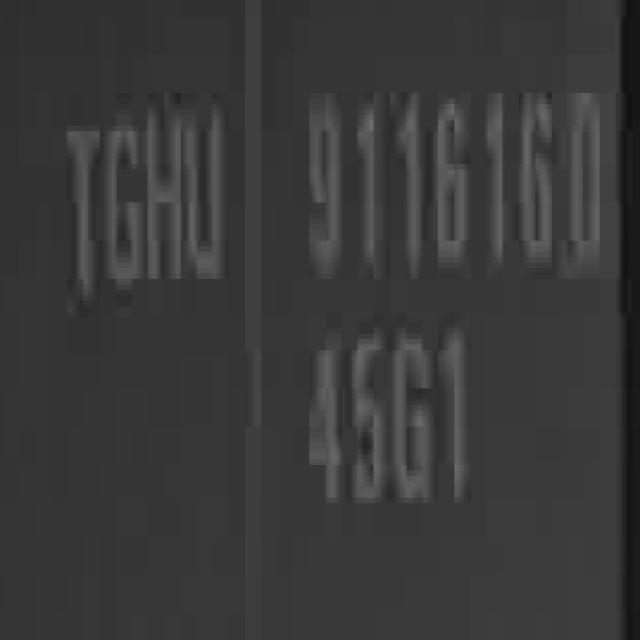dv: (559, 78, 615, 287)
owner: (56, 70, 232, 316)
serial: (301, 55, 554, 290)
size: (288, 312, 487, 527)
